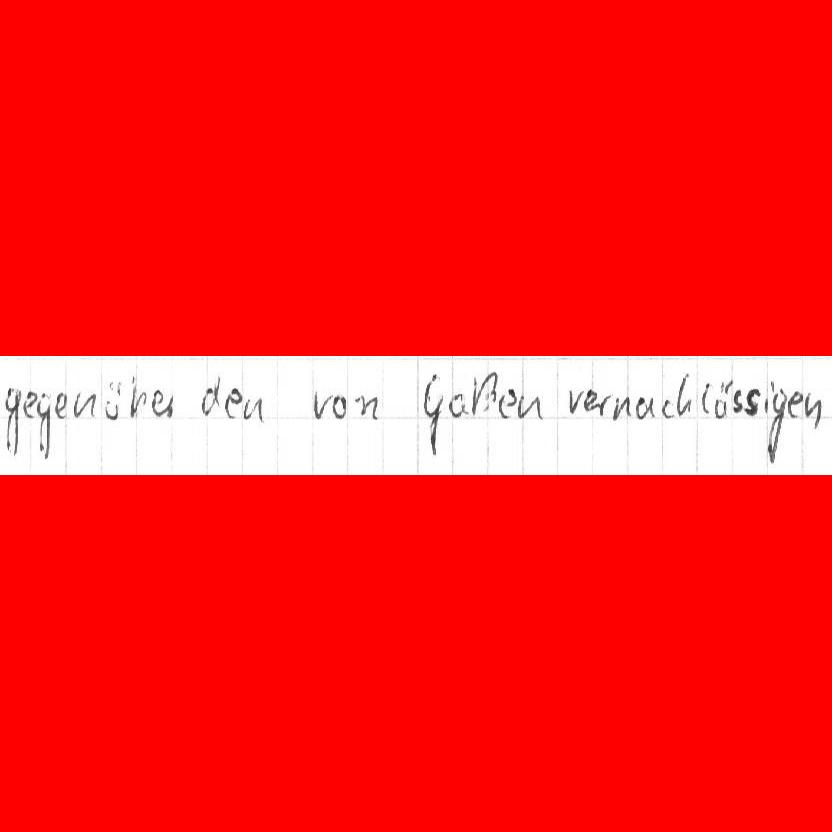Char: (420, 372, 443, 451), (768, 388, 788, 463), (471, 370, 497, 414), (5, 387, 21, 455), (200, 375, 222, 417), (127, 374, 146, 417), (39, 391, 51, 456), (103, 382, 122, 422), (678, 373, 694, 416), (804, 392, 823, 426), (71, 391, 94, 419), (610, 392, 632, 421), (517, 394, 542, 419), (353, 394, 377, 420), (242, 395, 264, 423), (153, 391, 175, 419), (715, 378, 730, 418), (224, 388, 241, 419), (499, 388, 516, 418), (448, 392, 467, 418), (312, 393, 330, 420), (635, 394, 653, 420), (787, 389, 803, 418), (582, 386, 598, 413), (763, 378, 775, 413), (332, 394, 348, 420), (700, 385, 713, 416), (592, 392, 609, 415), (23, 389, 36, 419), (661, 397, 677, 421), (54, 392, 68, 418), (746, 389, 761, 412), (567, 390, 582, 413), (731, 389, 744, 412)
